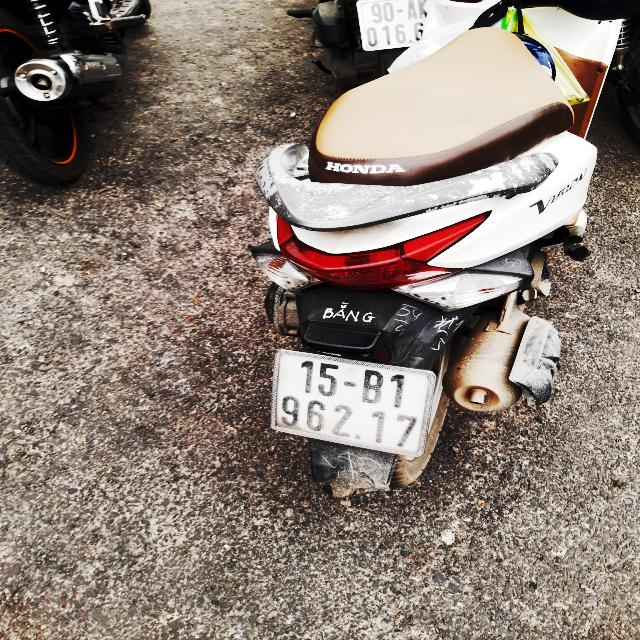license_plate: (258, 343, 444, 466)
